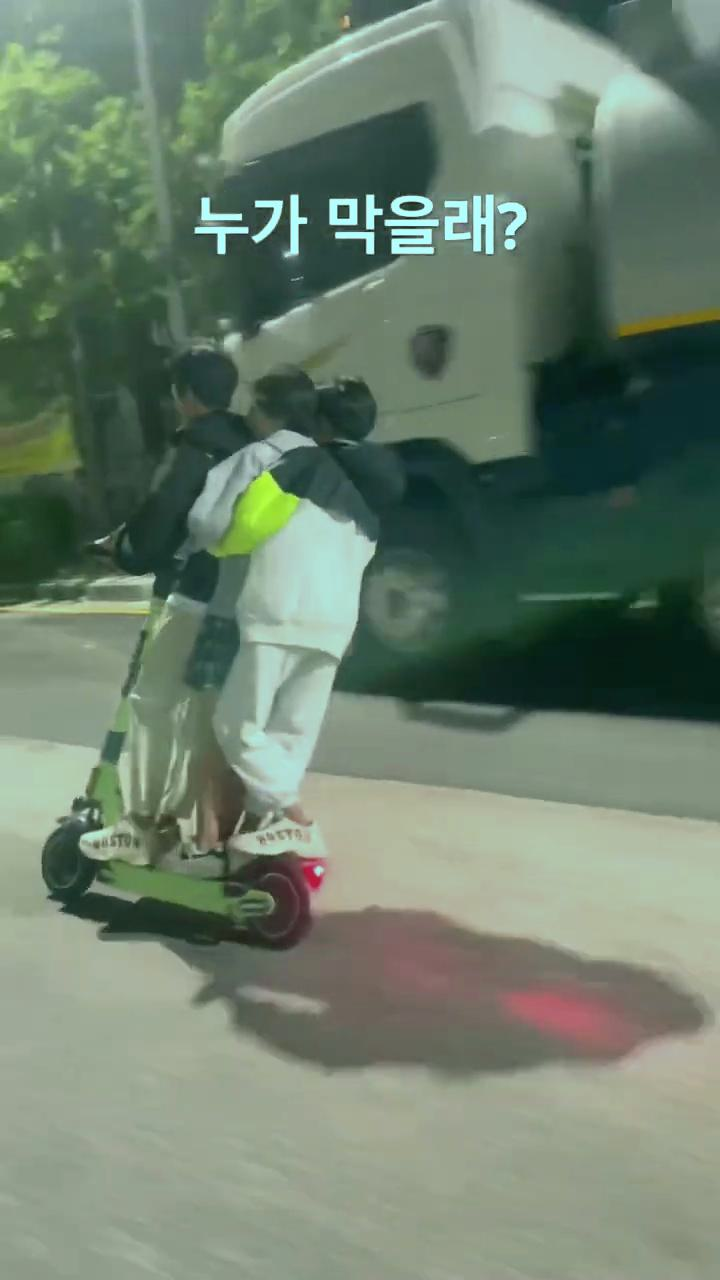multiple: (37, 341, 411, 949)
